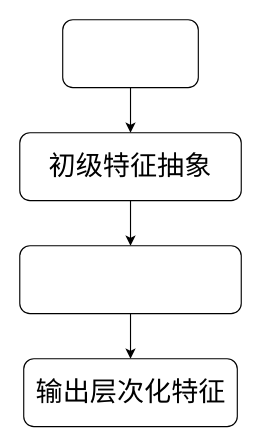
Image size: 261x446. Some labels were removed from this diagram. Each missing label, with the centre of its shape:
输入数据: point 130,53
高级特征精炼: point 130,279
